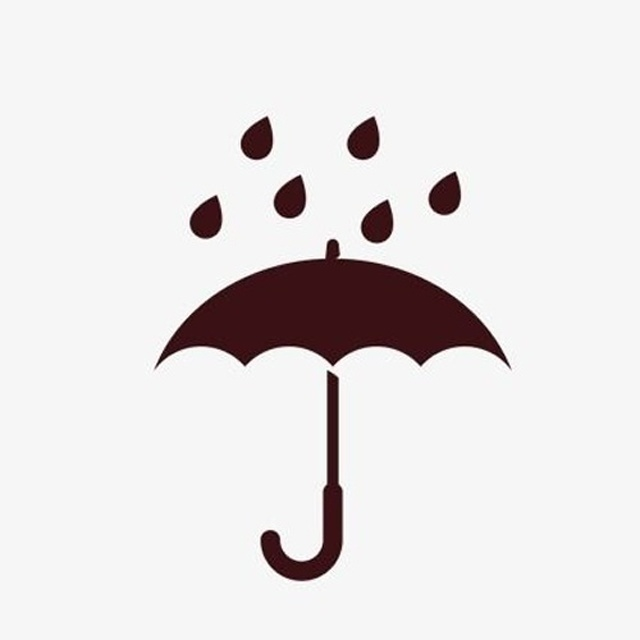umbrella: (151, 237, 515, 587)
